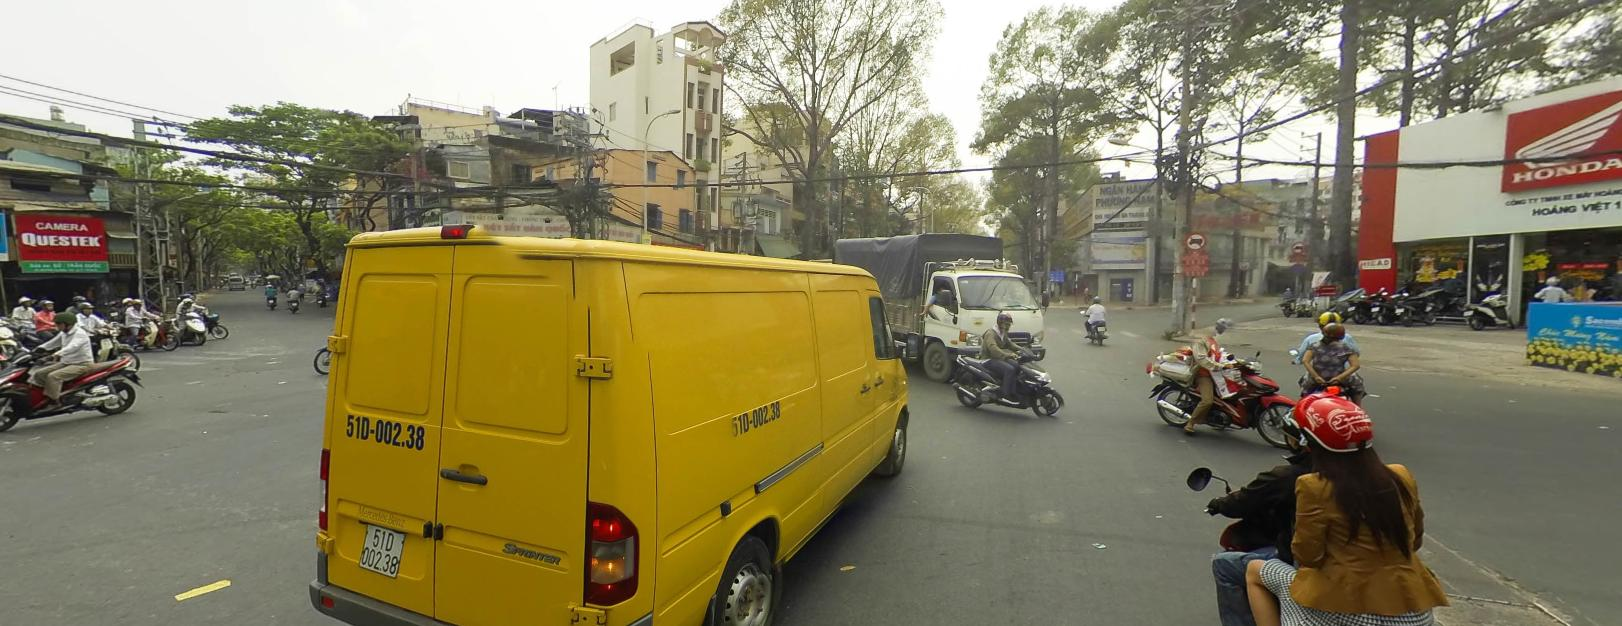Cam con lai: (1185, 230, 1207, 249), (1291, 239, 1306, 252)
Cam dung va do: (1289, 260, 1303, 272)
